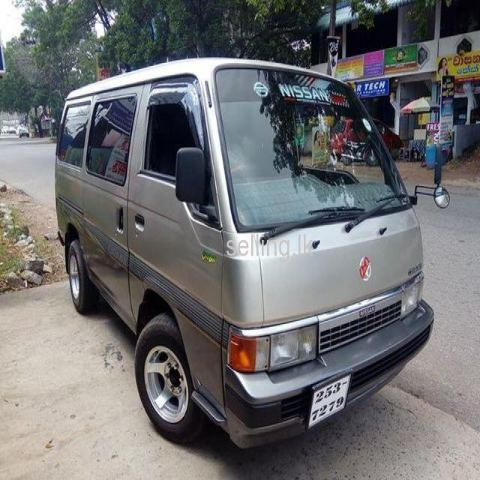van: (56, 65, 448, 440)
